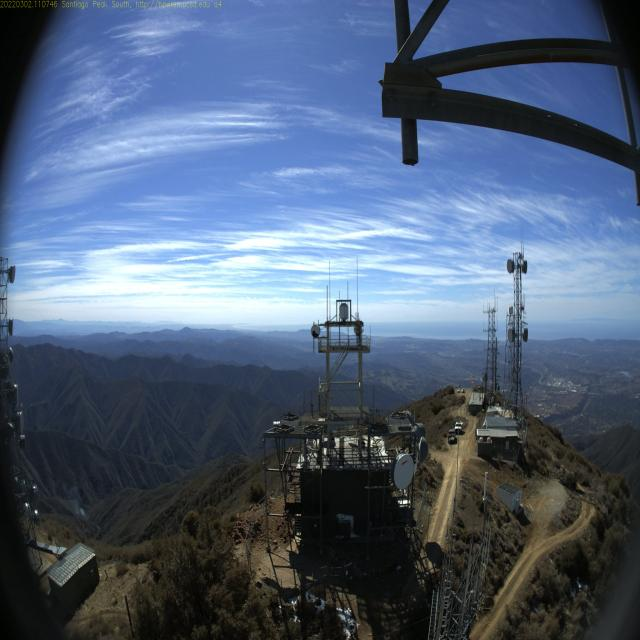smoke: (1, 308, 51, 488), (51, 482, 91, 519)
